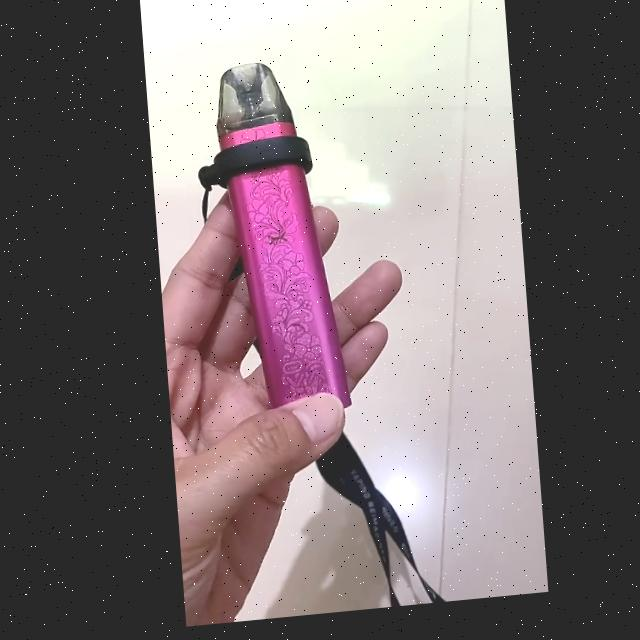vape: (209, 59, 346, 431)
